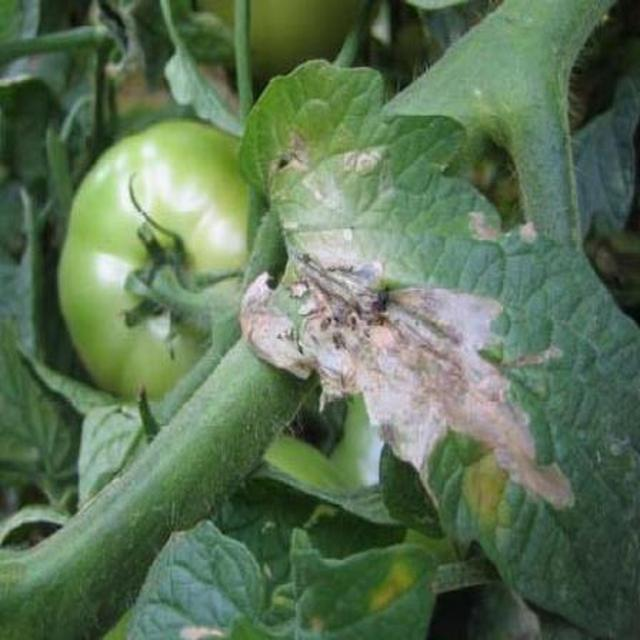Leaf Miner: (337, 174, 640, 640)
